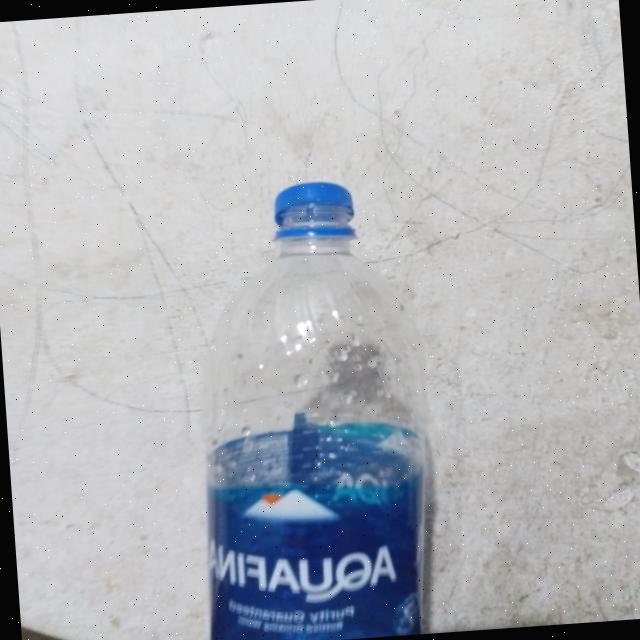bottle: (171, 163, 443, 640)
cap: (260, 178, 365, 249)
label: (189, 468, 438, 640)
